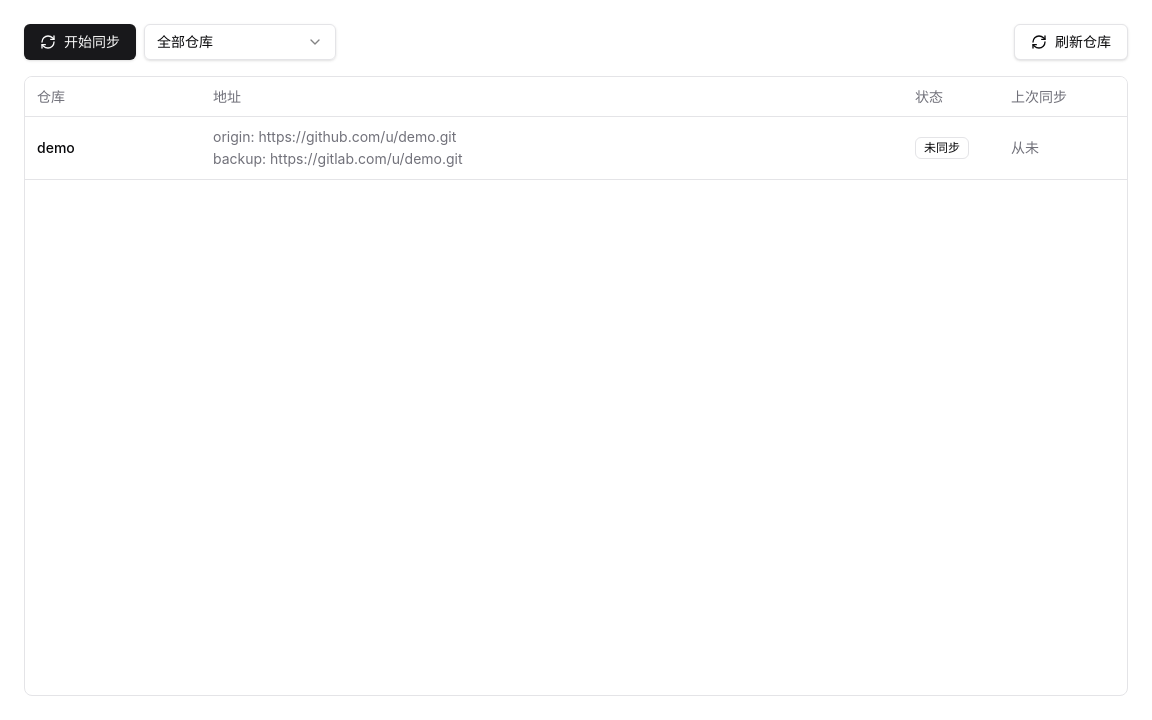
Scenario: 全部配置齐全时「开始同步」可用，点击后按范围发起同步
Click the button "开始同步": (80, 42) left=24, top=24, right=136, bottom=60
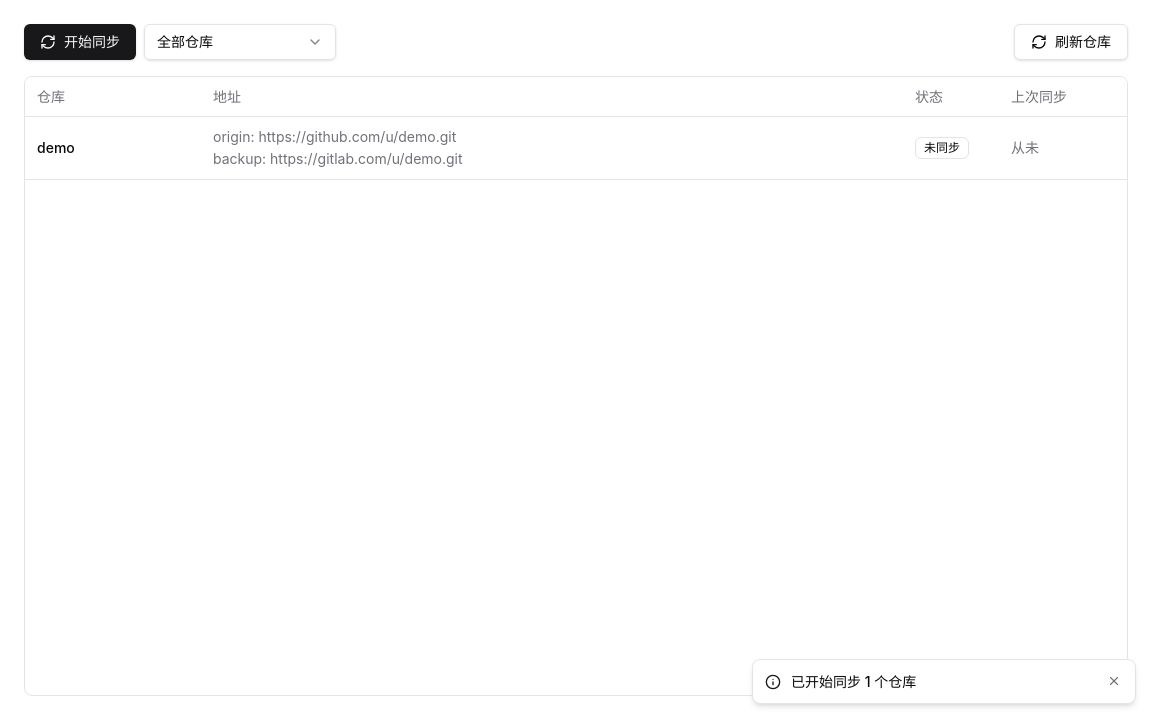
Check: the text "已开始同步 1 个仓库" is shown, box left=791, top=673, right=916, bottom=690
